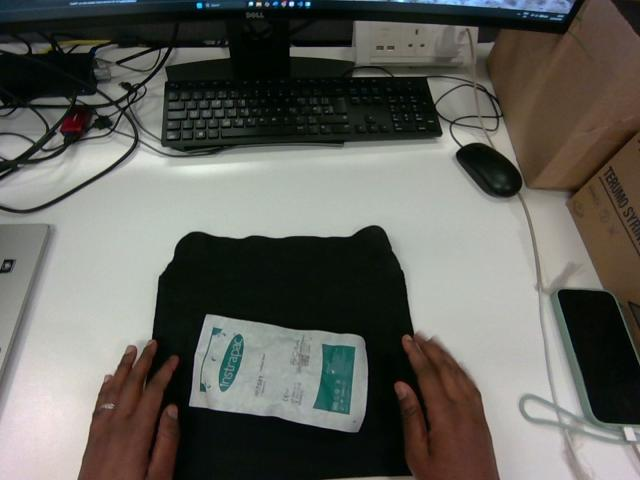gallipot: (189, 315, 367, 431)
